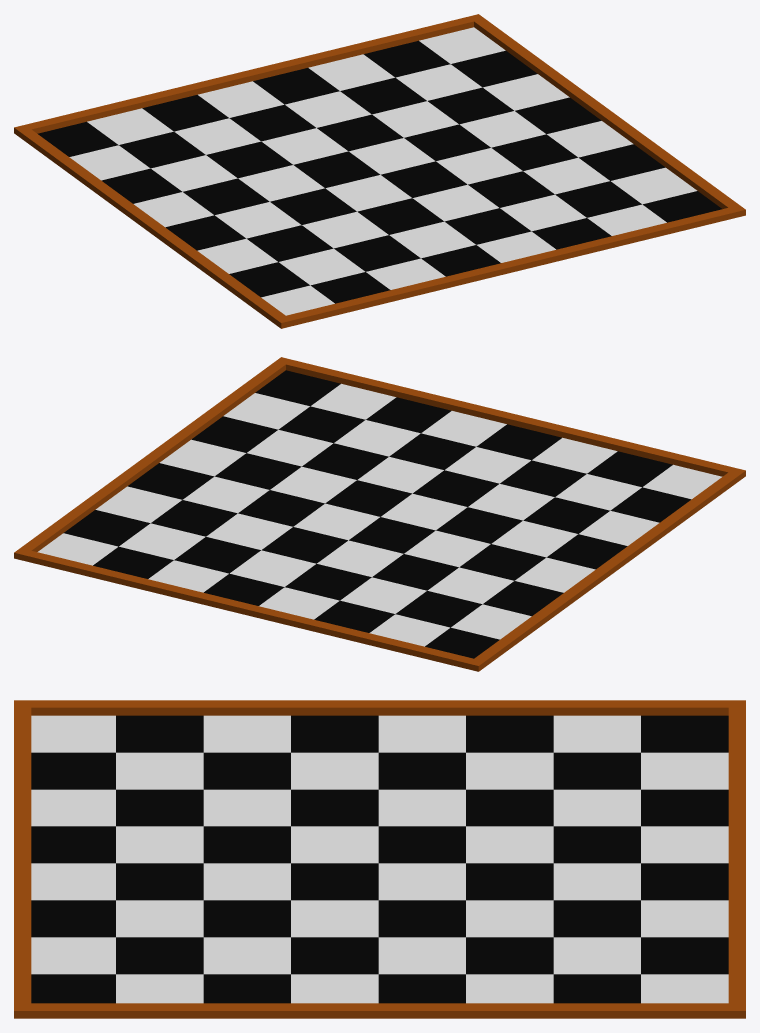
File: chessboard.fbx
3 views of the same model, one above another, from view 1: azimuth 30°, elevation 25°; view 2: azimuth 150°, elevation 25°; view 3: azimuth 270°, elevation 25° (orthographic). The views are drawn at different scales.
Parts seen in each view (by area): view 1: plane, Cube.003, Cube.002, Cube.001, Cube; view 2: plane, Cube.002, Cube.003, Cube, Cube.001; view 3: plane, Cube.001, Cube, Cube.002, Cube.003.
Part boxes in pixels (box(x1,y1,x2,y2)): plane: box(37, 27, 722, 315); Cube.003: box(275, 207, 734, 328); Cube.002: box(25, 14, 484, 133); Cube.001: box(474, 19, 745, 217); Cube: box(14, 125, 285, 323); plane: box(37, 370, 722, 658); Cube.002: box(14, 548, 473, 668); Cube.003: box(286, 360, 745, 480); Cube: box(467, 472, 739, 671); Cube.001: box(21, 357, 291, 551); plane: box(31, 715, 728, 1003); Cube.001: box(14, 1003, 728, 1018); Cube: box(31, 700, 745, 715); Cube.002: box(728, 707, 745, 1018); Cube.003: box(14, 700, 31, 1003).
Size of the model in its own units: 840 by 10 by 837.
